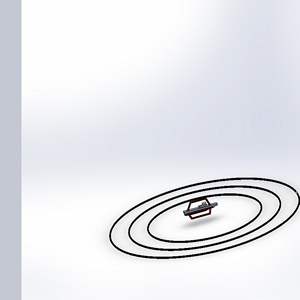circle: (107, 169, 300, 261)
submarine: (173, 195, 222, 222)
